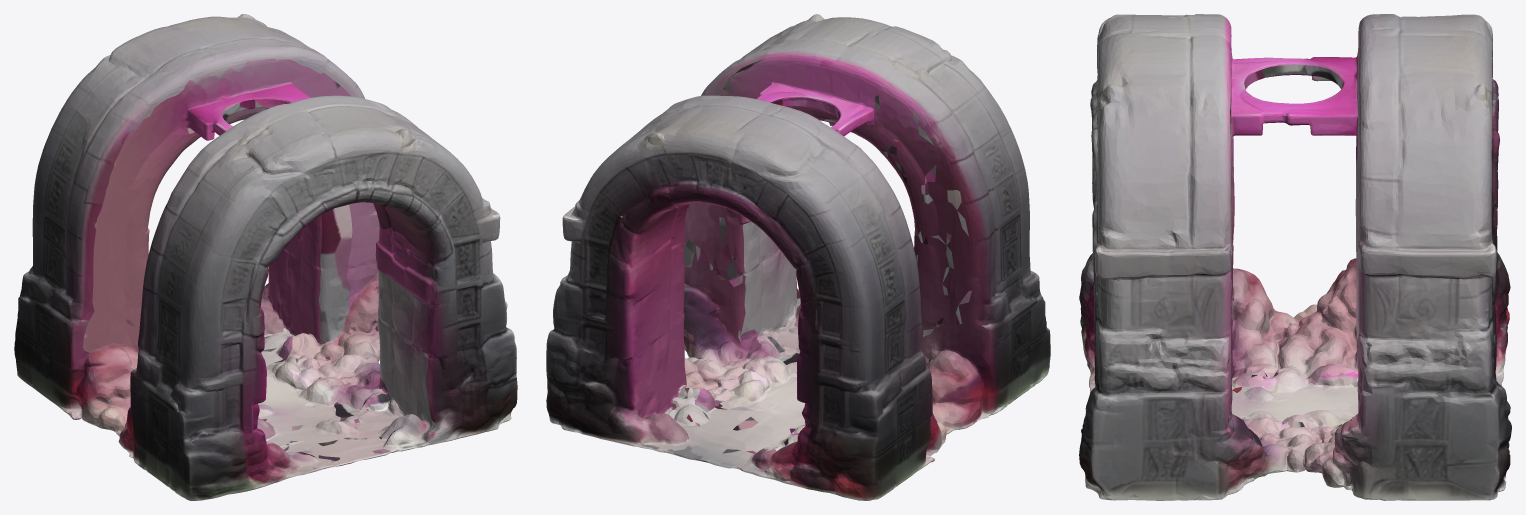
Rendered from lower-root-arch-generated-2026-04-26T02-38-26-370Z.high.glb.
3 renders of one model, left to right at view 1: azimuth 30°, elevation 25°; view 2: azimuth 150°, elevation 25°; view 3: azimuth 270°, elevation 25°, orthographic. The views are drawn at different scales.
Visible parts, largest first — view 1: temp_mesh.ply; view 2: temp_mesh.ply; view 3: temp_mesh.ply.
Boxes of the visible parts, left/top/right/bottom form: temp_mesh.ply: left=14, top=14, right=517, bottom=500; temp_mesh.ply: left=546, top=14, right=1050, bottom=500; temp_mesh.ply: left=1079, top=14, right=1511, bottom=500.
Bounding box in the file's own units: 1.98 × 1.86 × 1.95.
1 material, 1 textured.
